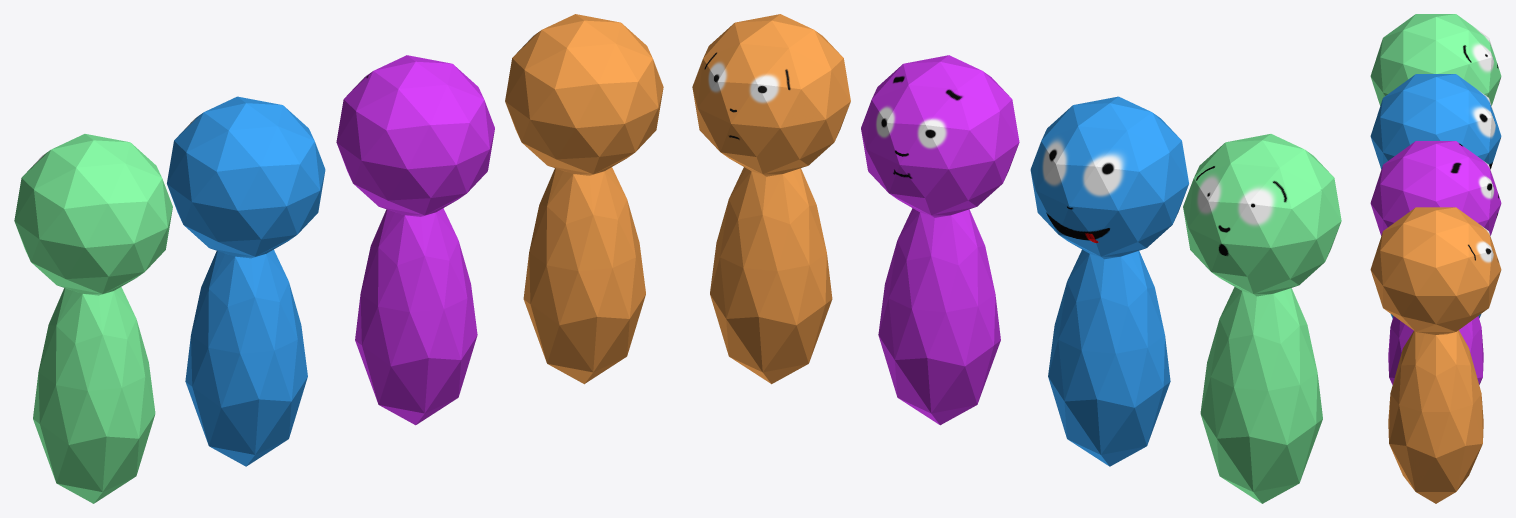
The model's file is characters_2.fbx.
The picture shows the model from 3 angles, left to right: view 1: azimuth 30°, elevation 25°; view 2: azimuth 150°, elevation 25°; view 3: azimuth 270°, elevation 25°; orthographic projection. The views are drawn at different scales.
Visible parts, largest first — view 1: Icosphere, Icosphere.003, Icosphere.002, Icosphere.001; view 2: Icosphere, Icosphere.003, Icosphere.002, Icosphere.001; view 3: Icosphere, Icosphere.001, Icosphere.002, Icosphere.003.
Part boxes in pixels (left/top/right/bottom): Icosphere: left=505, top=14, right=663, bottom=384; Icosphere.003: left=14, top=134, right=172, bottom=503; Icosphere.002: left=167, top=96, right=325, bottom=466; Icosphere.001: left=336, top=55, right=494, bottom=425; Icosphere: left=692, top=14, right=850, bottom=384; Icosphere.003: left=1183, top=134, right=1341, bottom=503; Icosphere.002: left=1030, top=96, right=1188, bottom=466; Icosphere.001: left=861, top=55, right=1019, bottom=425; Icosphere: left=1370, top=207, right=1501, bottom=503; Icosphere.001: left=1370, top=141, right=1501, bottom=384; Icosphere.002: left=1370, top=74, right=1501, bottom=318; Icosphere.003: left=1370, top=14, right=1501, bottom=105.
Size of the model in its own units: 564 by 314 by 127.
4 materials, 4 textured.
